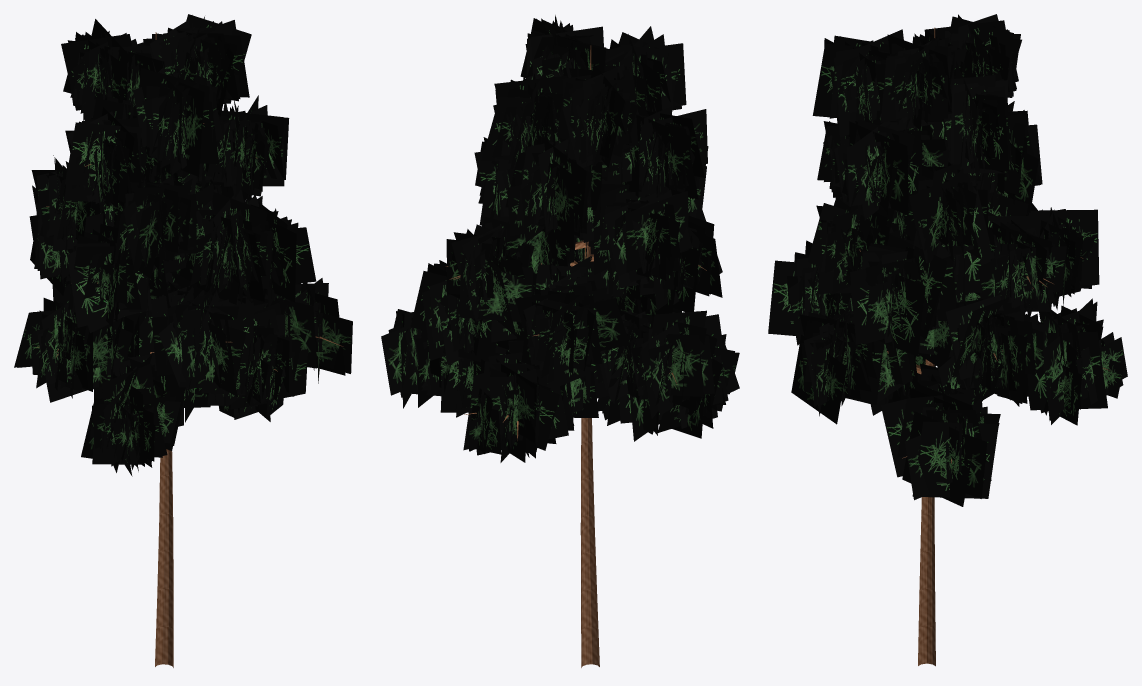
The model's file is Pine_TallMature_LOD0.glb.
3 views of the same model, side by side, from view 1: azimuth 30°, elevation 25°; view 2: azimuth 150°, elevation 25°; view 3: azimuth 270°, elevation 25° (orthographic).
Parts seen in each view (by area): view 1: Leaves_06, Leaves_01, Leaves_11, Leaves_04, Leaves_19, Leaves_17, Leaves_09, Leaves_14, Leaves_00, Leaves_16, Leaves_21, Leaves_20 (+5 smaller); view 2: Leaves_02, Leaves_07, Leaves_04, Leaves_10, Leaves_12, Leaves_15, Leaves_20, Leaves_17, Leaves_00, Leaves_05, Leaves_18, Leaves_01 (+6 smaller); view 3: Leaves_00, Leaves_08, Leaves_02, Leaves_05, Leaves_03, Leaves_10, Leaves_16, Leaves_13, Leaves_21, Leaves_18, Leaves_19, Leaves_11 (+7 smaller).
Boxes of the visible parts, box(x1,y1,x2,y2) form: Leaves_06: box(141, 271, 253, 397); Leaves_01: box(81, 352, 185, 476); Leaves_11: box(161, 183, 272, 304); Leaves_04: box(14, 286, 149, 402); Leaves_19: box(133, 68, 223, 179); Leaves_17: box(64, 96, 164, 215); Leaves_09: box(67, 210, 174, 333); Leaves_14: box(114, 160, 196, 278); Leaves_00: box(173, 278, 352, 422); Leaves_16: box(195, 95, 289, 199); Leaves_21: box(143, 14, 251, 116); Leaves_20: box(61, 19, 165, 120); Leaves_02: box(463, 341, 598, 462); Leaves_07: box(515, 256, 629, 388); Leaves_04: box(585, 309, 714, 418); Leaves_10: box(446, 216, 575, 336); Leaves_12: box(574, 179, 692, 282); Leaves_15: box(505, 135, 602, 249); Leaves_20: box(556, 60, 638, 167); Leaves_17: box(601, 106, 707, 199); Leaves_00: box(381, 309, 574, 430); Leaves_05: box(410, 260, 524, 367); Leaves_18: box(482, 73, 567, 177); Leaves_01: box(597, 314, 739, 441); Leaves_00: box(880, 356, 1000, 506); Leaves_08: box(850, 226, 956, 356); Leaves_02: box(982, 298, 1127, 425); Leaves_05: box(918, 289, 1035, 405); Leaves_03: box(791, 306, 914, 424); Leaves_10: box(953, 193, 1066, 318); Leaves_16: box(842, 115, 949, 220); Leaves_13: box(903, 162, 990, 264); Leaves_21: box(874, 29, 967, 132); Leaves_18: box(930, 61, 1011, 182); Leaves_19: box(812, 29, 930, 137); Leaves_11: box(807, 196, 910, 294).
Bounding box in the file's own units: 11.01 × 21.31 × 10.75.
Materials: 2 (2 with a texture image).
